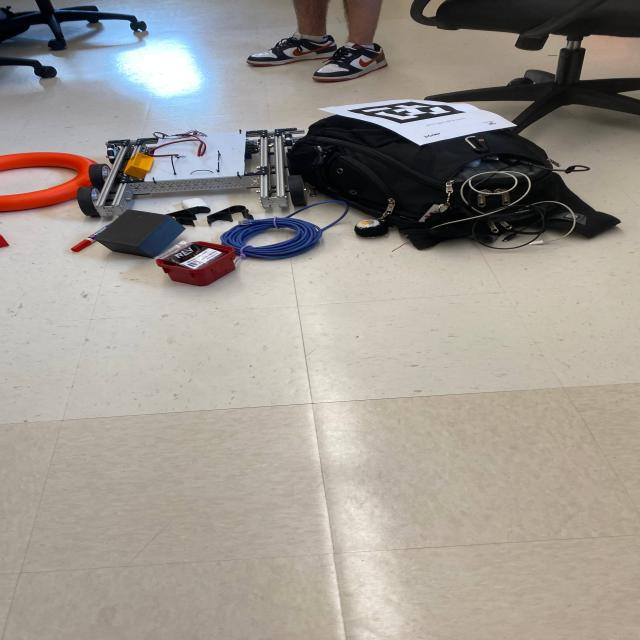red-specimen: (0, 235, 9, 248)
yellow-specimen: (123, 152, 154, 178)
